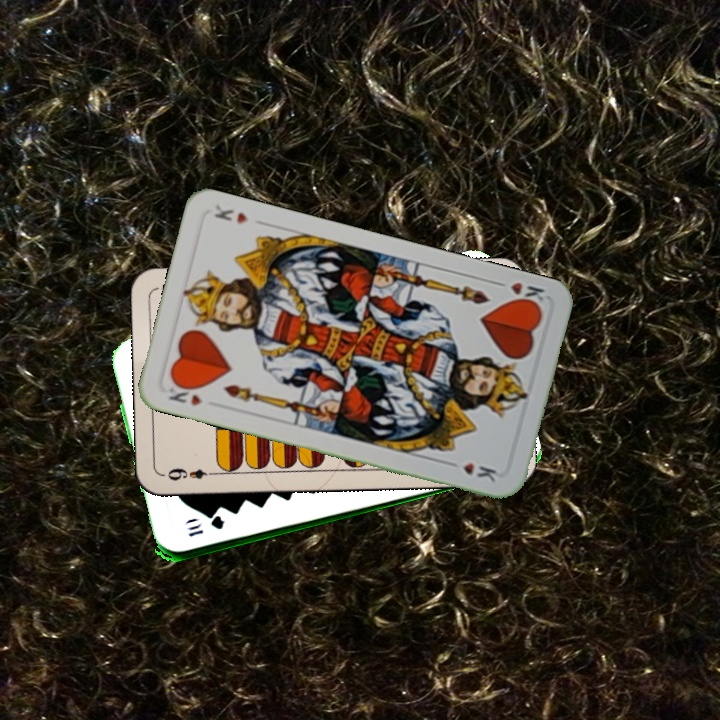E9: (164, 464, 220, 483)
G10: (184, 514, 227, 540)
HK: (490, 277, 548, 310), (164, 378, 205, 409)
